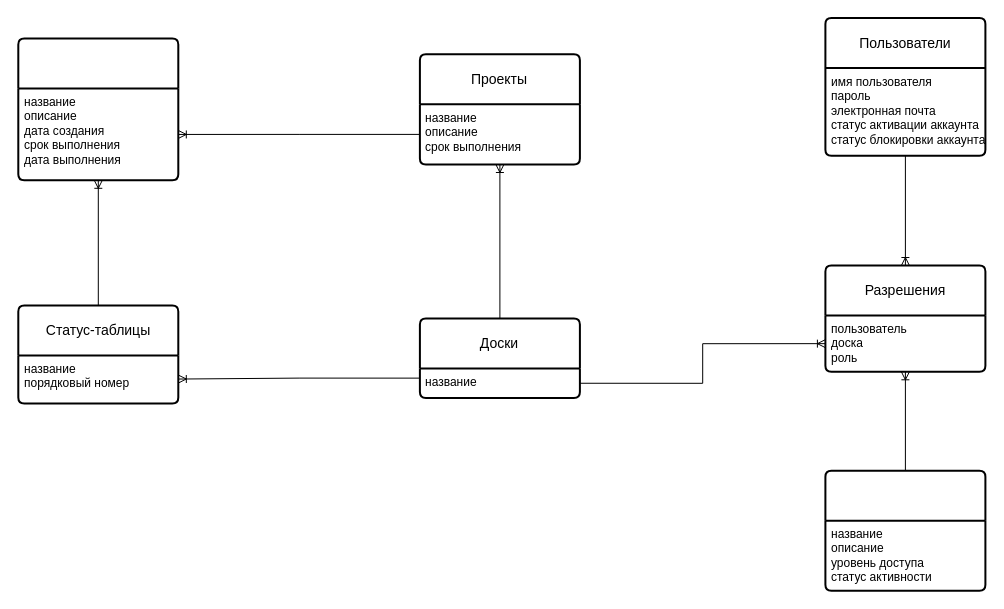
This 1004x609 diagram has some shape labels left out. Here are the shapes that lost their labels. From the top down, the box of each, then its label:
(17, 37, 179, 181): Задачи
(824, 469, 986, 591): Роли
